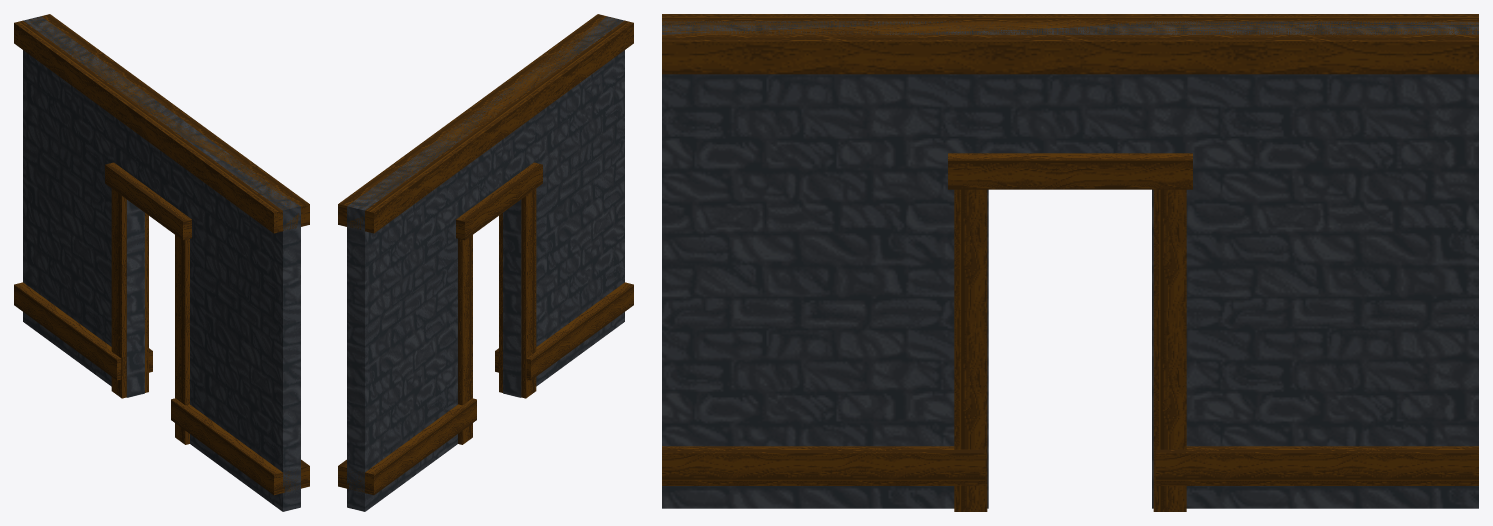
File: Tuerrahmen V1.fbx
The picture shows the model from 3 angles, left to right: view 1: azimuth 30°, elevation 25°; view 2: azimuth 150°, elevation 25°; view 3: azimuth 270°, elevation 25°; orthographic projection. The views are drawn at different scales.
Visible parts, largest first — view 1: Cube.012; view 2: Cube.012; view 3: Cube.012.
Boxes of the visible parts, x1,y1,x2,y2 form: Cube.012: (14, 14, 309, 511); Cube.012: (338, 14, 633, 511); Cube.012: (662, 14, 1478, 511).
Size of the model in its own units: 40 by 500 by 320.
1 material, 1 textured.
